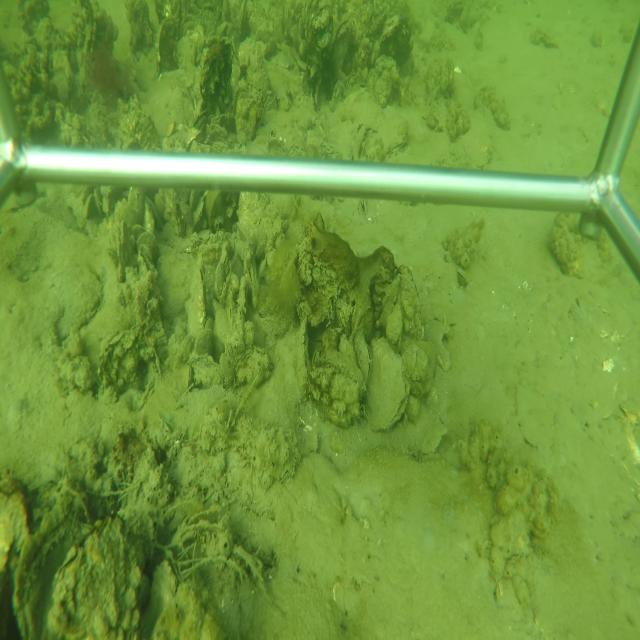Oyster-Closed: (364, 335, 414, 433), (284, 316, 311, 403), (397, 260, 426, 340), (186, 260, 208, 339)
